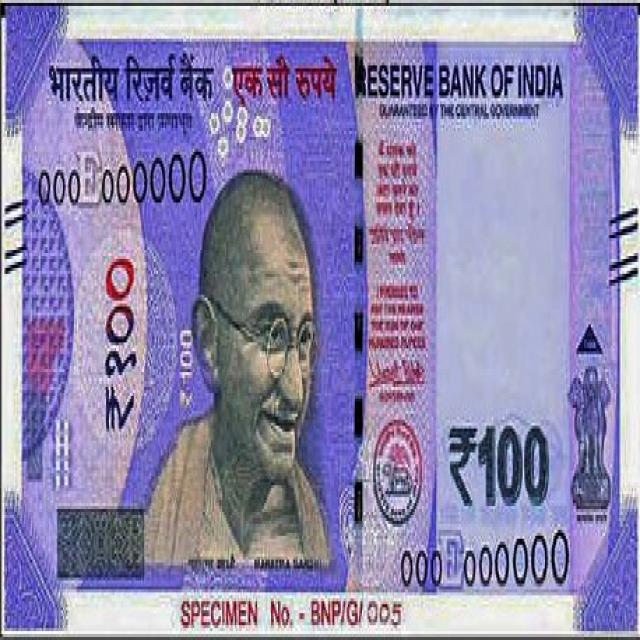100rs: (7, 2, 640, 593)
